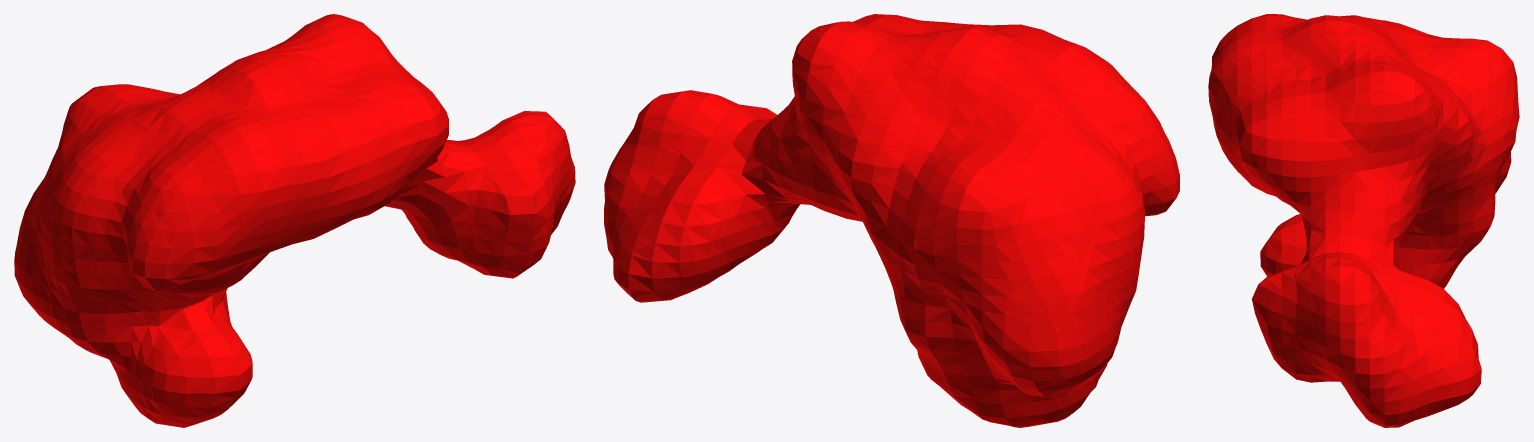
Rendered from rraB_coarse.dae.
3 views of the same model, side by side, from view 1: azimuth 30°, elevation 25°; view 2: azimuth 150°, elevation 25°; view 3: azimuth 270°, elevation 25° (orthographic). The views are drawn at different scales.
Visible parts, largest first — view 1: rraB; view 2: rraB; view 3: rraB.
Part boxes in pixels (x1,y1,x2,y2): rraB: (14,14,575,427); rraB: (604,14,1179,427); rraB: (1208,14,1519,427).
Size of the model in its own units: 65.25 by 42.28 by 35.67.
